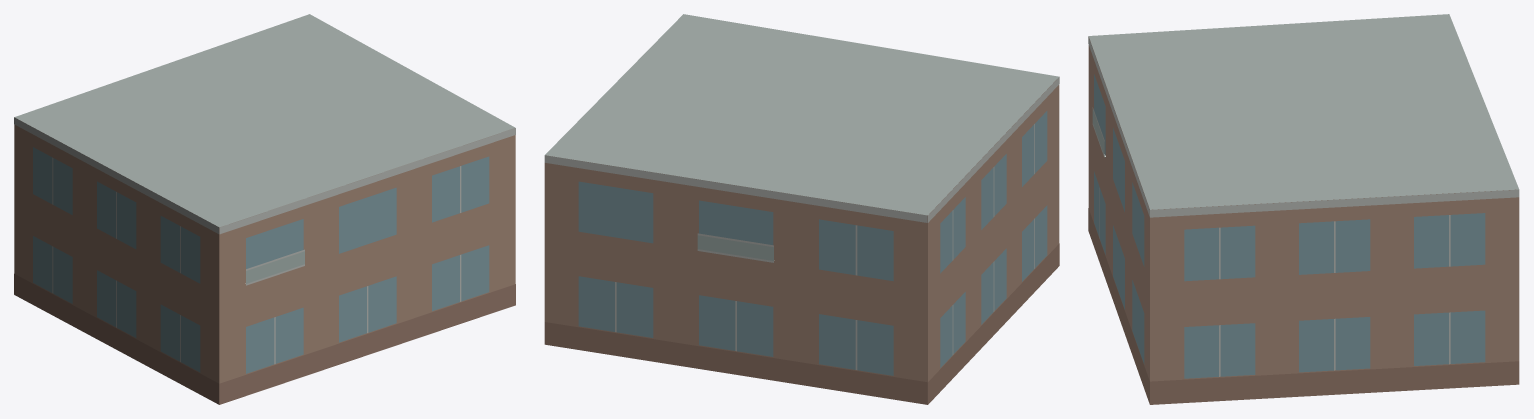
File: survey-upis-32703463.glb
3 renders of one model, left to right at view 1: azimuth 30°, elevation 25°; view 2: azimuth 150°, elevation 25°; view 3: azimuth 270°, elevation 25°, orthographic. The views are drawn at different scales.
Parts seen in each view (by area): view 1: survey-upis-32703463.tmp; view 2: survey-upis-32703463.tmp; view 3: survey-upis-32703463.tmp.
Part boxes in pixels (x1,y1,x2,y2): survey-upis-32703463.tmp: (14,14,515,404); survey-upis-32703463.tmp: (544,14,1059,404); survey-upis-32703463.tmp: (1088,14,1519,404).
Size of the model in its own units: 13.15 by 6.1 by 12.22.
